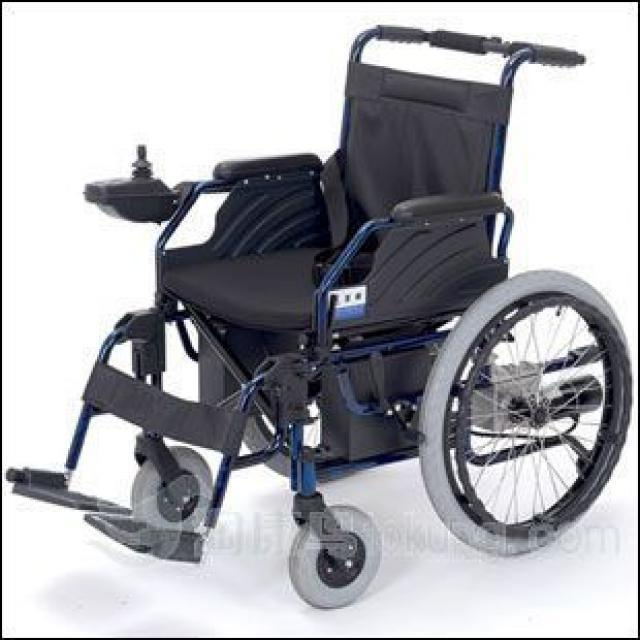wheelchairs: (15, 27, 627, 604)
